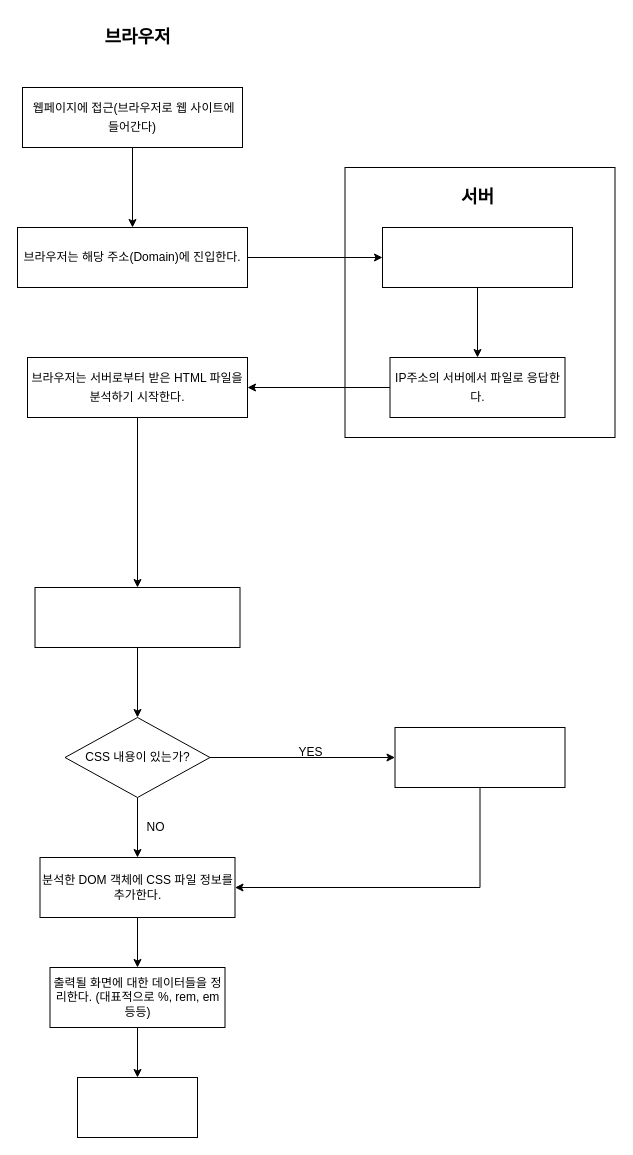
This 633x1155 diagram has some shape labels left out. Here are the shapes that lost their labels. From the top down, the box of each, then its label:
(382, 226, 572, 288): Domain서버에서 IP로 연결한다.
(34, 586, 240, 648): 분석한 파일을 DOM 객체에 프로퍼티로 정의한다.(HTML 파일의 구조만을 저장한다.)
(394, 726, 565, 788): CSS파일은 따로 정의를 한다. (CSS Parser)
(76, 1076, 198, 1138): 랜더링(printing)
